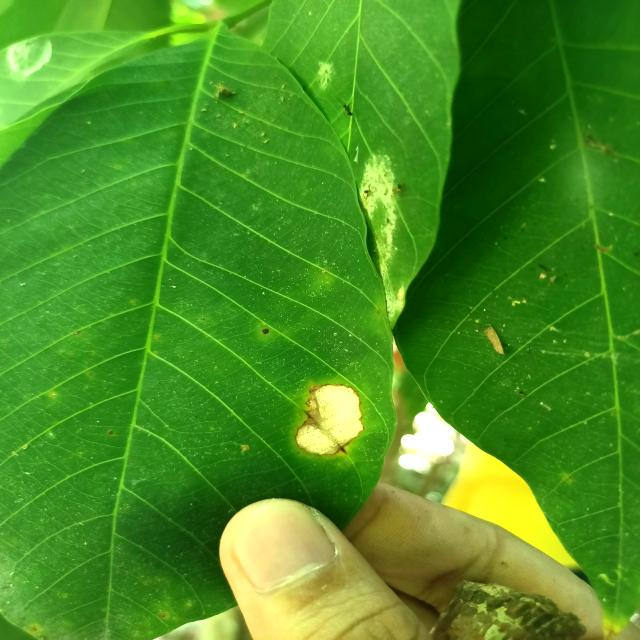Colletotrichum: (262, 329, 269, 334)
Leaf-Blight: (295, 384, 364, 455)
